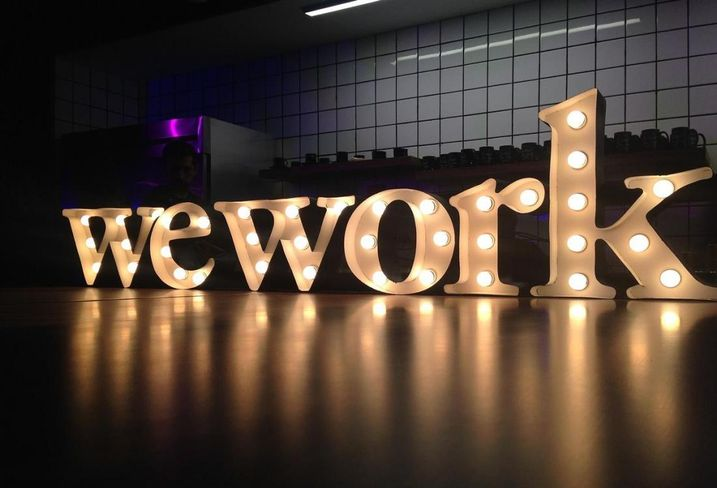wework: (55, 83, 717, 307)
